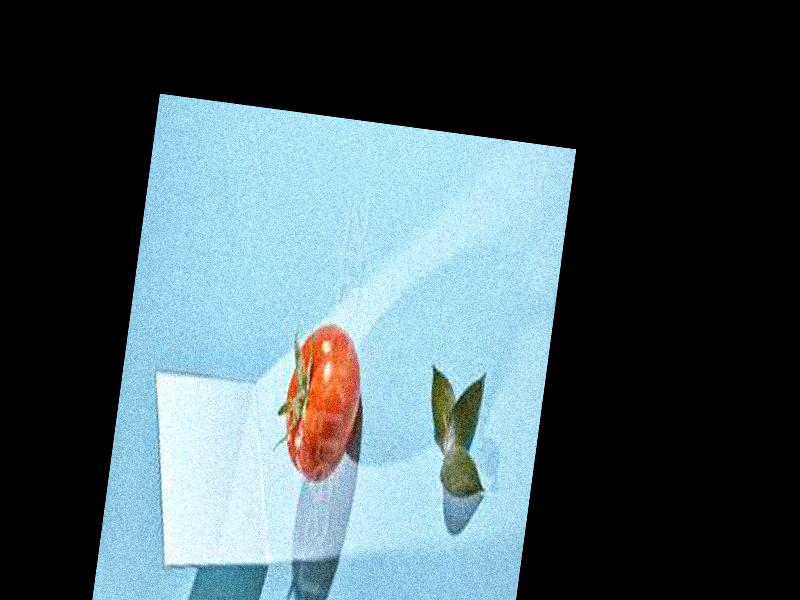Tomato: (275, 316, 369, 486)
